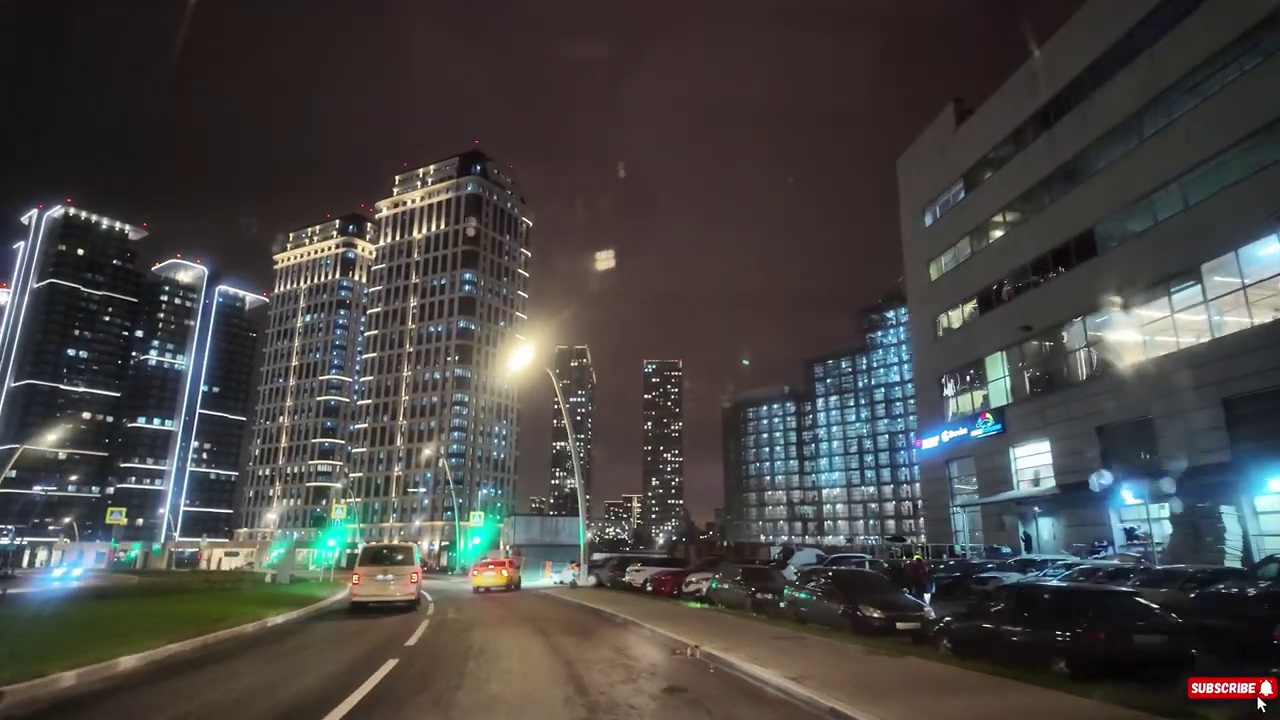acesa: (493, 330, 549, 389)
